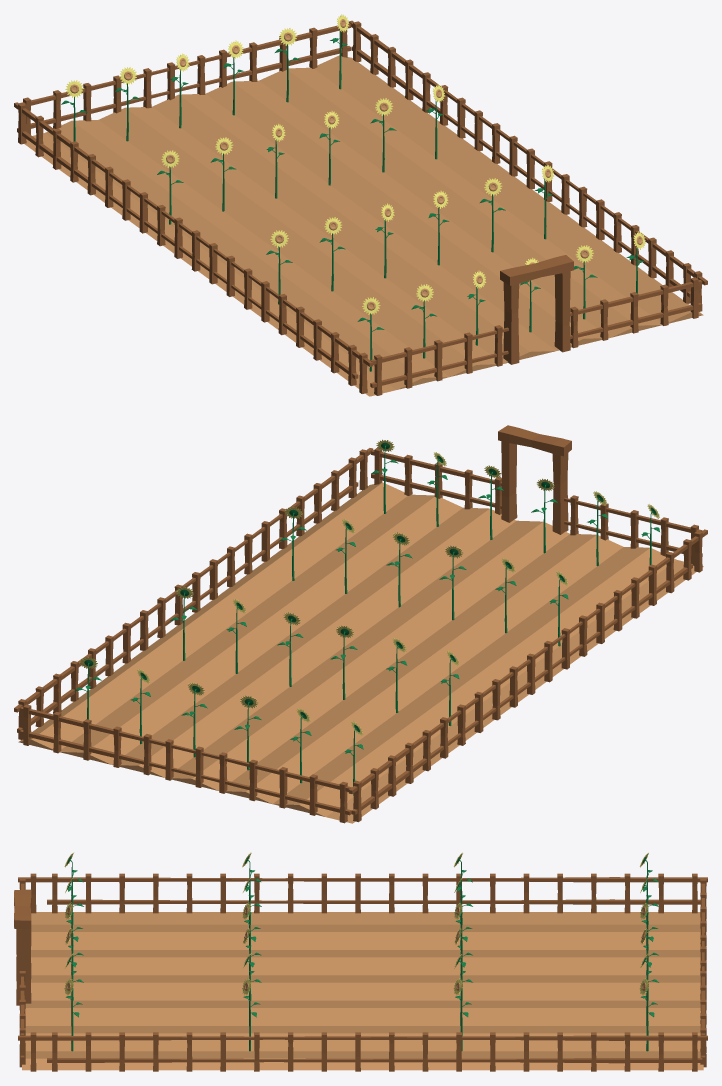
The model's file is Sunflower_Field.fbx.
The picture shows the model from 3 angles, top to bottom: view 1: azimuth 30°, elevation 25°; view 2: azimuth 150°, elevation 25°; view 3: azimuth 270°, elevation 25°; orthographic projection. The views are drawn at different scales.
Visible parts, largest first — view 1: Sunflower_Field; view 2: Sunflower_Field; view 3: Sunflower_Field.
Boxes of the visible parts, <box> form: Sunflower_Field: <box>14,14,707,396</box>; Sunflower_Field: <box>14,425,707,823</box>; Sunflower_Field: <box>14,852,707,1071</box>.
Size of the model in its own units: 922 by 231 by 1679.
